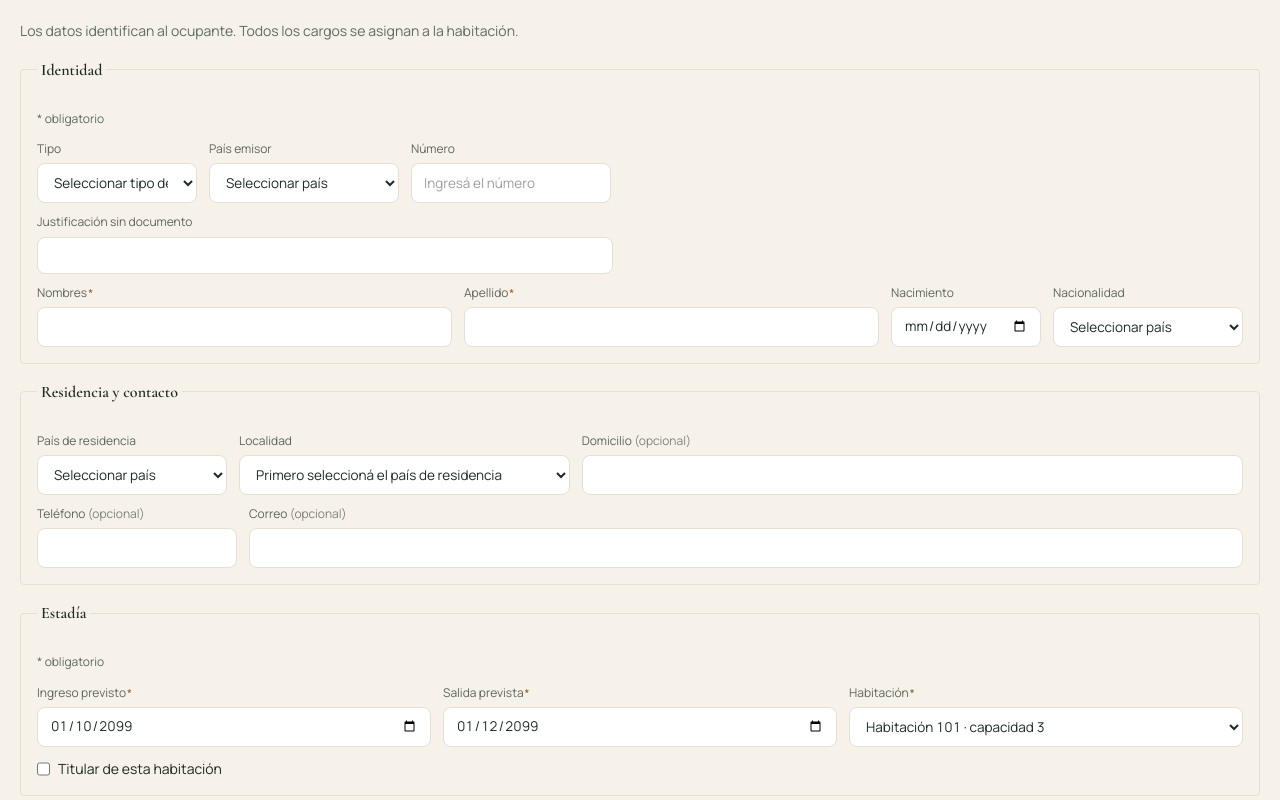
Scenario: PersonaFormulario — identificación por documento › documento nuevo (404): 'No hay un huésped registrado con ese documento' y el nombre se carga a mano
Select "DNI" in the dropdown labelled "Tipo": (117, 183) [37,163,197,203]
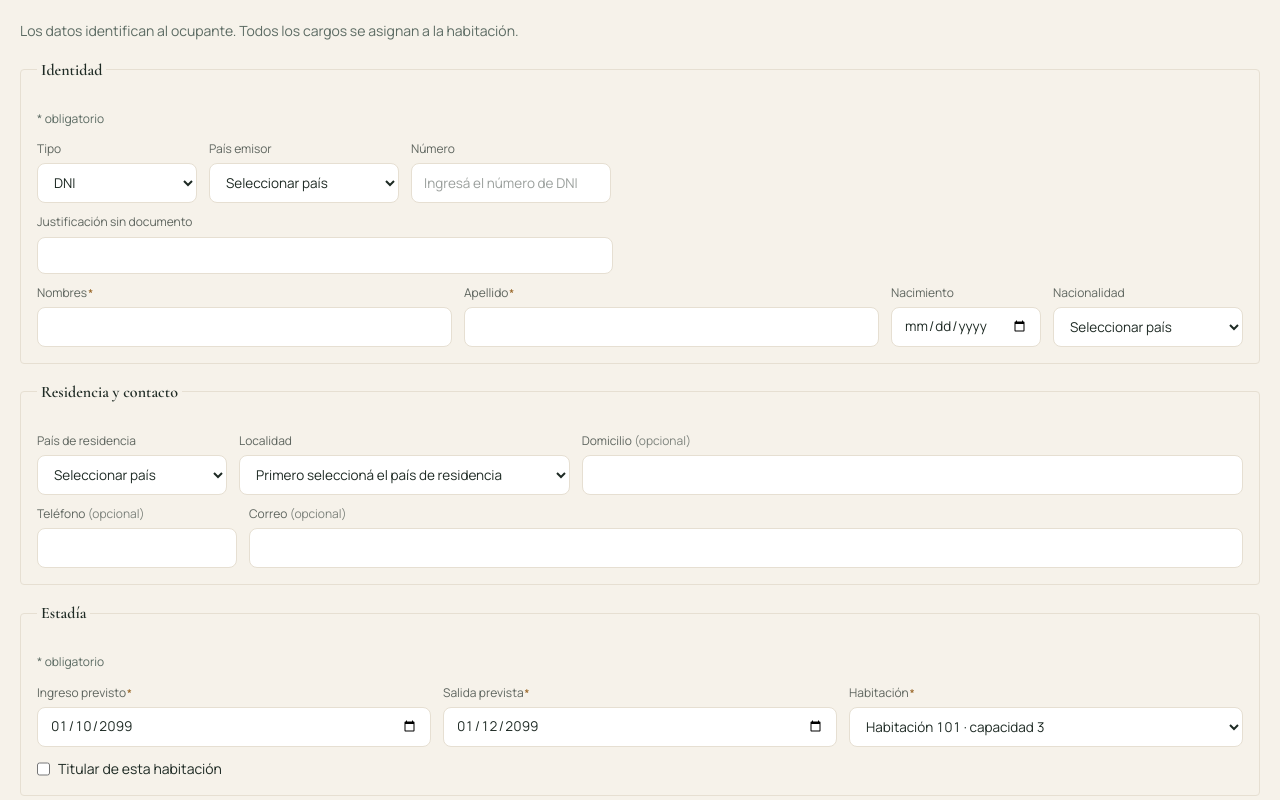
Select "Argentina" in the dropdown labelled "País emisor": (304, 183) [209,163,399,203]
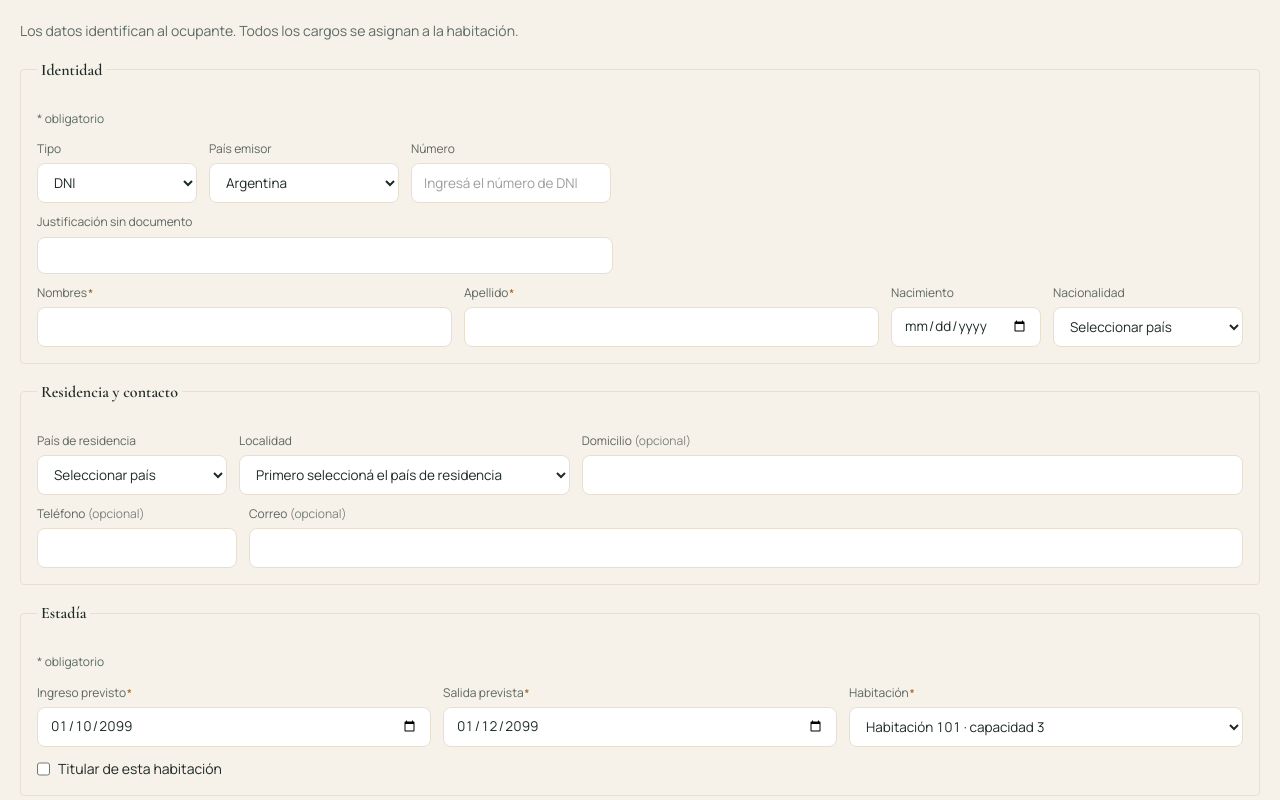
In the field named "número de DNI": (511, 183) [411,163,611,203], type "45112999"
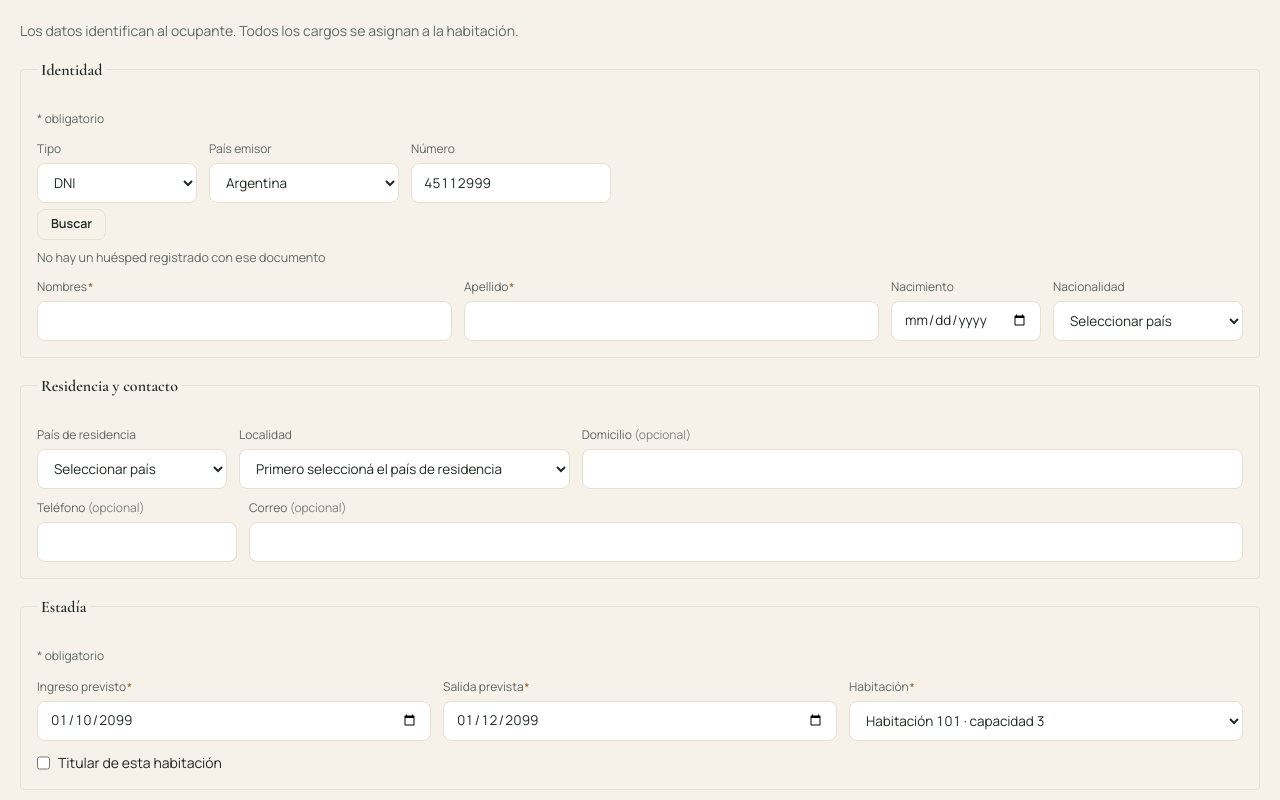
Check: the field named "Nombres *" is enabled, box [37,301,452,341]
Check: the text "No hay un huésped registrado con ese documento" is shown, box [37,249,325,266]
